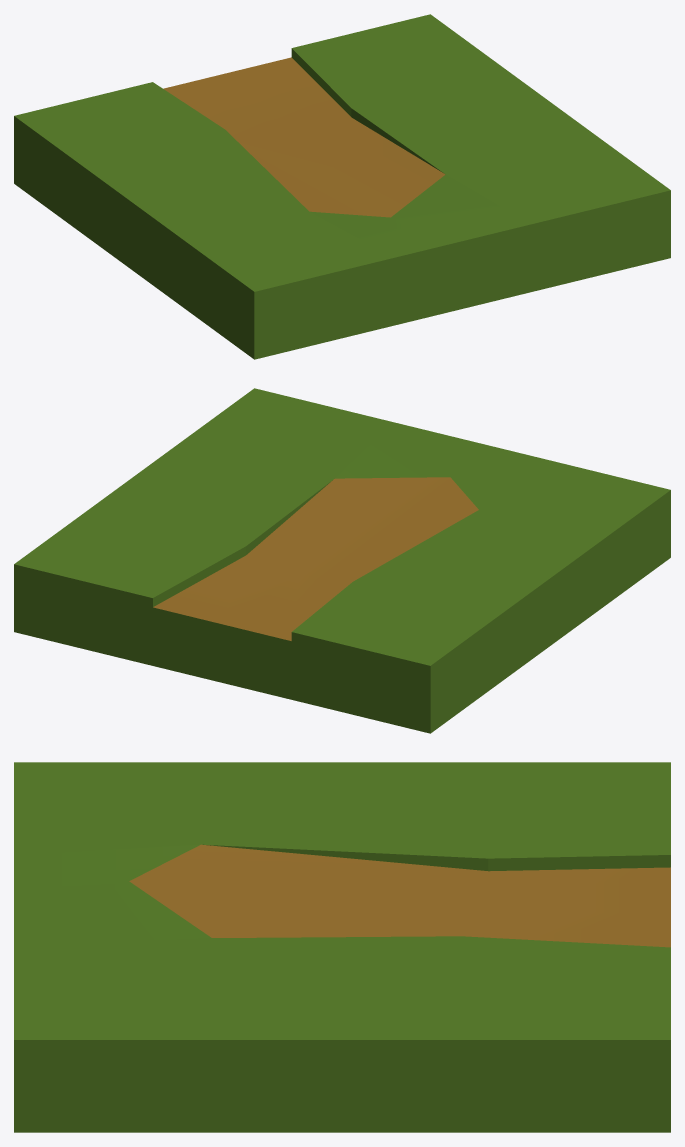
The model's file is End.fbx.
The picture shows the model from 3 angles, top to bottom: view 1: azimuth 30°, elevation 25°; view 2: azimuth 150°, elevation 25°; view 3: azimuth 270°, elevation 25°; orthographic projection. The views are drawn at different scales.
Visible parts, largest first — view 1: End; view 2: End; view 3: End.
Part boxes in pixels (box(x1,y1,x2,y2)): End: box(14, 14, 670, 359); End: box(14, 388, 670, 733); End: box(14, 762, 670, 1132).
Size of the model in its own units: 450 by 70 by 450.
